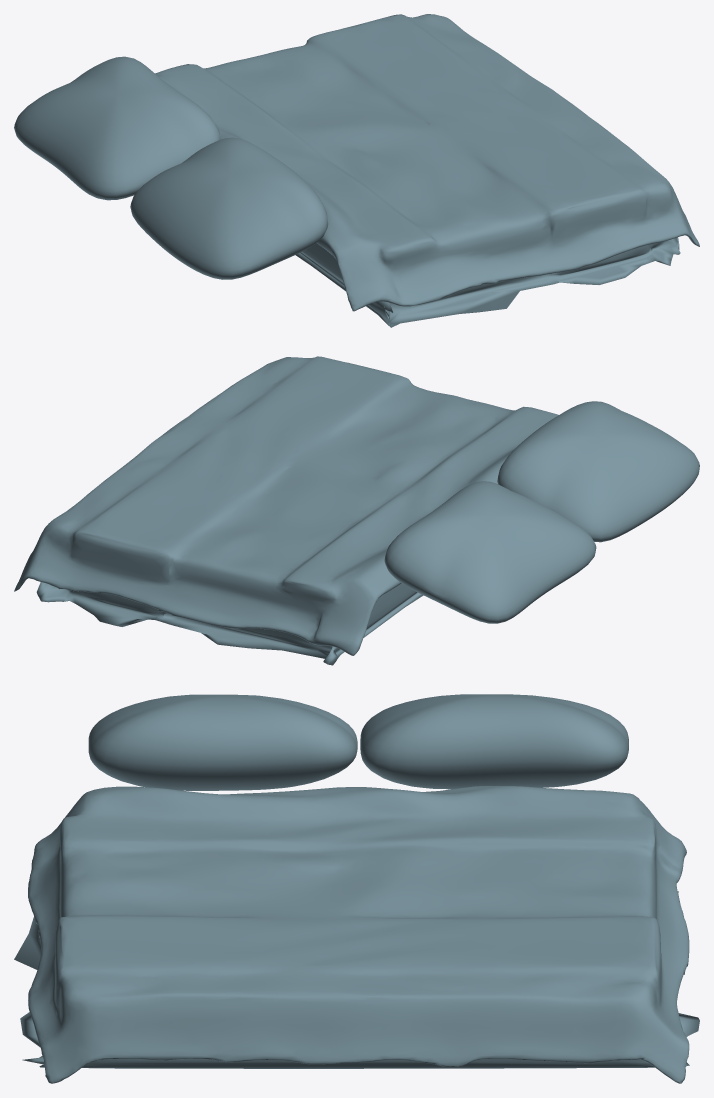
The model's file is luktjasmin-40484425.glb.
The picture shows the model from 3 angles, top to bottom: view 1: azimuth 30°, elevation 25°; view 2: azimuth 150°, elevation 25°; view 3: azimuth 270°, elevation 25°; orthographic projection. The views are drawn at different scales.
Visible parts, largest first — view 1: luktjasmin-40484425--filled-duvet, luktjasmin-40484425--pillow-2, luktjasmin-40484425--pillow-1; view 2: luktjasmin-40484425--filled-duvet, luktjasmin-40484425--pillow-1, luktjasmin-40484425--pillow-2; view 3: luktjasmin-40484425--filled-duvet, luktjasmin-40484425--pillow-1, luktjasmin-40484425--pillow-2.
Part boxes in pixels (bbox=[...]): luktjasmin-40484425--filled-duvet: bbox=[155, 14, 699, 327]; luktjasmin-40484425--pillow-2: bbox=[130, 137, 328, 279]; luktjasmin-40484425--pillow-1: bbox=[14, 56, 220, 200]; luktjasmin-40484425--filled-duvet: bbox=[14, 356, 558, 665]; luktjasmin-40484425--pillow-1: bbox=[384, 481, 596, 623]; luktjasmin-40484425--pillow-2: bbox=[497, 401, 699, 542]; luktjasmin-40484425--filled-duvet: bbox=[14, 786, 699, 1083]; luktjasmin-40484425--pillow-1: bbox=[360, 694, 628, 789]; luktjasmin-40484425--pillow-2: bbox=[88, 694, 357, 790].
Size of the model in its own units: 2 by 0.5149 by 2.04.
